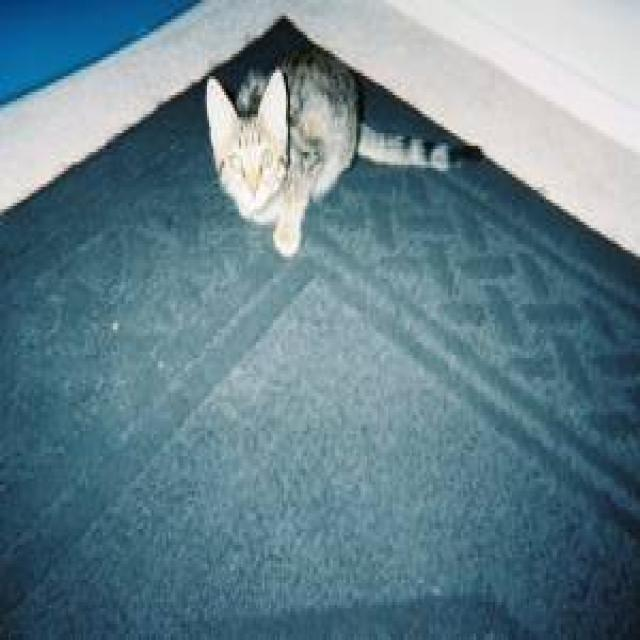Bengal: (203, 66, 286, 206)
